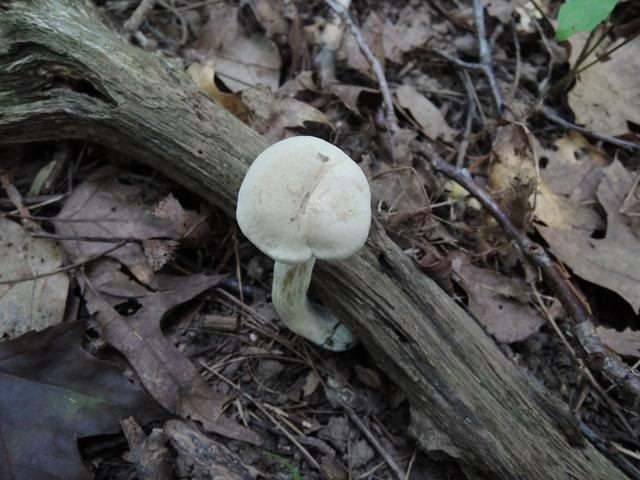edible_mushroom: (234, 134, 372, 352)
